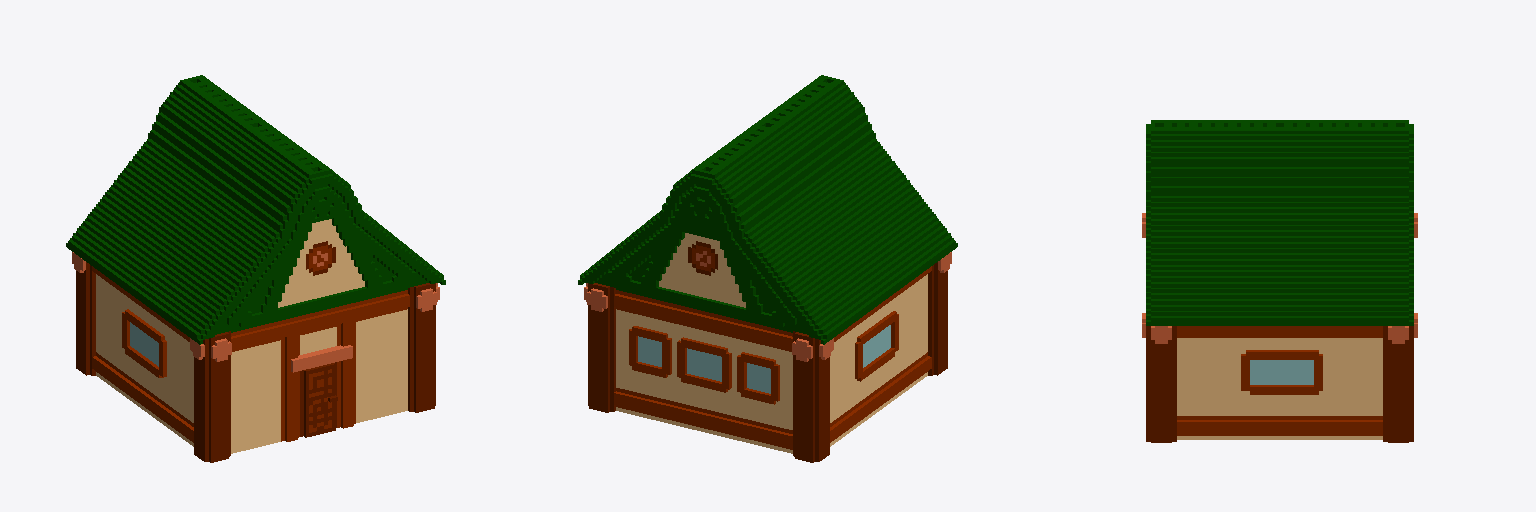
The picture shows the model from 3 angles: view 1: azimuth 30°, elevation 25°; view 2: azimuth 150°, elevation 25°; view 3: azimuth 270°, elevation 25°; orthographic projection.
Size of the model in its own units: 66 by 67 by 64.
Materials: 1 (1 with a texture image).